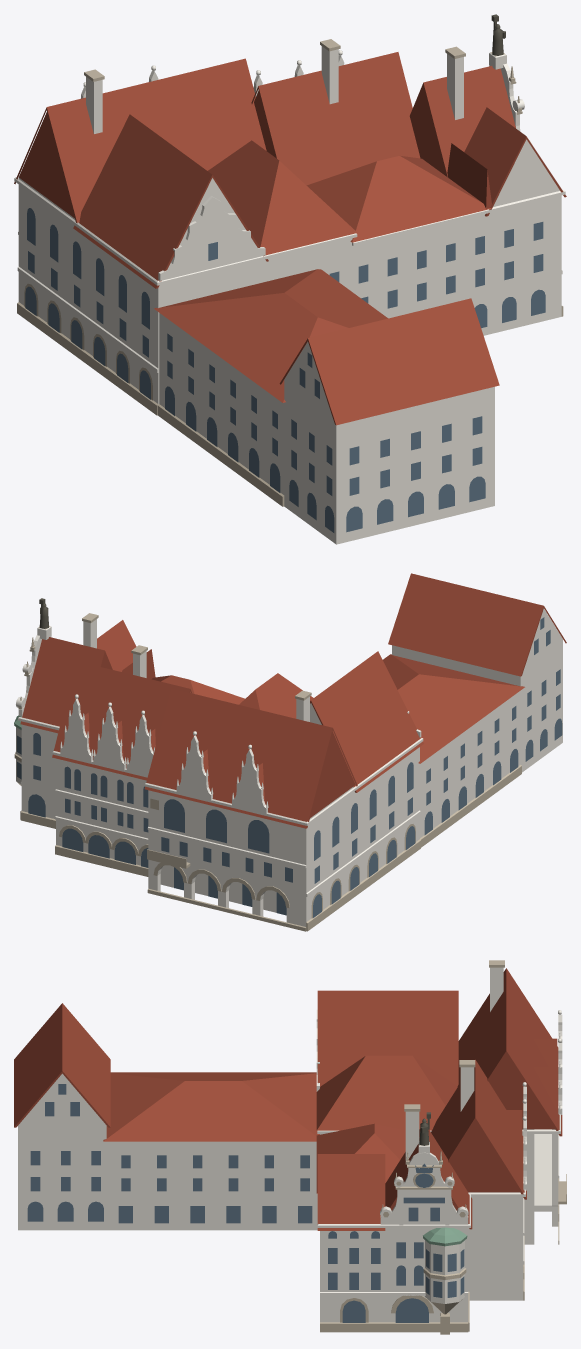
The model's file is munich-hofbraeuhaus.glb.
The picture shows the model from 3 angles, top to bottom: view 1: azimuth 30°, elevation 25°; view 2: azimuth 150°, elevation 25°; view 3: azimuth 270°, elevation 25°; orthographic projection. The views are drawn at different scales.
Visible parts, largest first — view 1: Hofbräuhaus; view 2: Hofbräuhaus; view 3: Hofbräuhaus.
Part boxes in pixels (<box>): Hofbräuhaus: <box>14,14,566,544</box>; Hofbräuhaus: <box>14,573,566,931</box>; Hofbräuhaus: <box>14,960,566,1334</box>.
Bounding box in the file's own units: 52.68 × 30.15 × 69.4.
